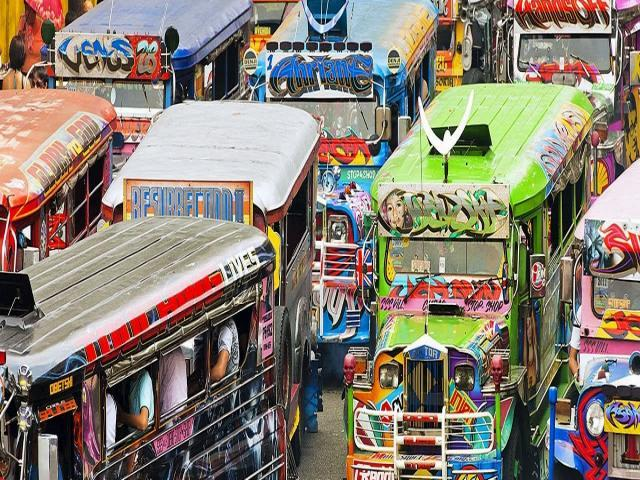jeepney: (360, 86, 581, 480), (0, 228, 324, 480), (268, 0, 451, 380), (550, 162, 639, 480), (507, 0, 640, 188)
